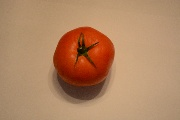tomato: (54, 25, 115, 87)
